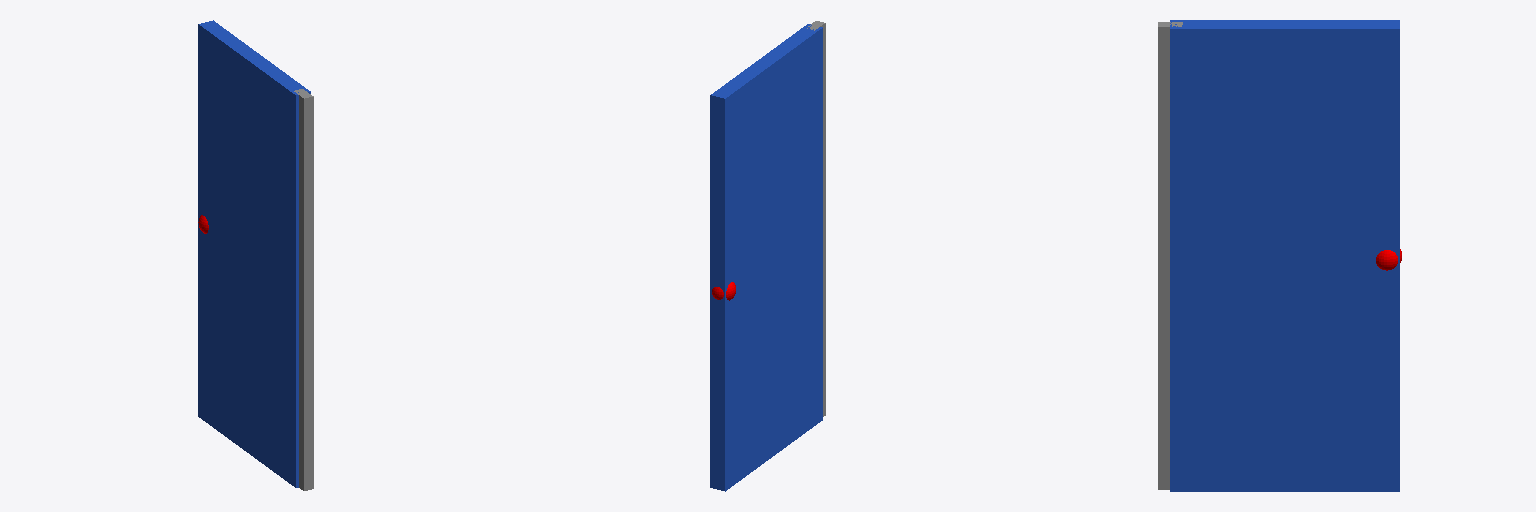
The robot description file, URDF, robot "simple_door":
<?xml version="1.0"?>
<robot name="simple_door">

  <!-- Door Frame (fixed to world) -->
  <link name="door_frame">
    <visual>
      <geometry>
        <box size="0.05 0.1 2.0"/>
      </geometry>
      <origin xyz="0 0 1.0" rpy="0 0 0"/>
      <material name="grey">
        <color rgba="0.6 0.6 0.6 1.0"/>
      </material>
    </visual>
    <collision>
      <geometry>
        <box size="0.05 0.1 2.0"/>
      </geometry>
      <origin xyz="0 0 1.0" rpy="0 0 0"/>
    </collision>
    <inertial>
      <mass value="10.0"/>
      <inertia ixx="1.0" ixy="0" ixz="0" iyy="1.0" iyz="0" izz="1.0"/>
    </inertial>
  </link>

  <!-- Door Panel -->
  <!-- Door Panel — make it thicker and more visible -->
    <link name="door_panel">
    <visual>
        <geometry>
        <box size="0.08 0.9 2.0"/>
        </geometry>
        <origin xyz="0 0.45 1.0" rpy="0 0 0"/>
        <material name="blue_door">
        <color rgba="0.2 0.4 0.8 1.0"/>
        </material>
    </visual>
    <collision>
        <geometry>
        <box size="0.08 0.9 2.0"/>
        </geometry>
        <origin xyz="0 0.45 1.0" rpy="0 0 0"/>
    </collision>
    <inertial>
        <mass value="5.0"/>
        <origin xyz="0 0.45 1.0" rpy="0 0 0"/>
        <inertia ixx="1.5" ixy="0" ixz="0" iyy="0.1" iyz="0" izz="1.5"/>
    </inertial>
    </link>

    <!-- Red push target marker at the free edge -->
    <link name="push_marker">
    <visual>
        <geometry>
        <sphere radius="0.06"/>
        </geometry>
        <origin xyz="0 0.85 1.0" rpy="0 0 0"/>
        <material name="red">
        <color rgba="1.0 0.0 0.0 1.0"/>
        </material>
    </visual>
    <inertial>
        <mass value="0.01"/>
        <inertia ixx="0.001" ixy="0" ixz="0" iyy="0.001" iyz="0" izz="0.001"/>
    </inertial>
    </link>

    <joint name="marker_joint" type="fixed">
    <parent link="door_panel"/>
    <child link="push_marker"/>
    <origin xyz="0 0 0" rpy="0 0 0"/>
    </joint>

  <!-- Hinge Joint: rotates around Z axis, max 30 degrees (~0.524 rad) -->
  <joint name="door_hinge" type="revolute">
    <parent link="door_frame"/>
    <child link="door_panel"/>
    <origin xyz="0 0 0" rpy="0 0 0"/>
    <axis xyz="0 0 1"/>
    <limit lower="-0.524" upper="0.524" effort="50.0" velocity="1.0"/>
    <dynamics damping="2.0" friction="0.5"/>
  </joint>

</robot>

--- Render facts (derived) ---
Views: 3 orthographic renders of the robot side by side, from view 1: azimuth 30°, elevation 25°; view 2: azimuth 150°, elevation 25°; view 3: azimuth 270°, elevation 25°.
Robot: simple_door — 3 links, 2 joints (1 revolute, 1 fixed); root link door_frame; default pose: every joint at zero.
Links seen in each view (by area): view 1: door_panel, door_frame; view 2: door_panel, door_frame; view 3: door_panel, door_frame.
Boxes of the visible links, box(x1,y1,x2,y2) form: door_panel: box(198, 20, 310, 487); door_frame: box(294, 89, 313, 490); door_panel: box(710, 24, 822, 491); door_frame: box(807, 21, 825, 416); door_panel: box(1170, 20, 1399, 491); door_frame: box(1158, 22, 1182, 489).
Size in the robot's own frame: 0.12 by 0.96 by 2 metres.
Geometry: primitives only (box / cylinder / sphere), no mesh files.
